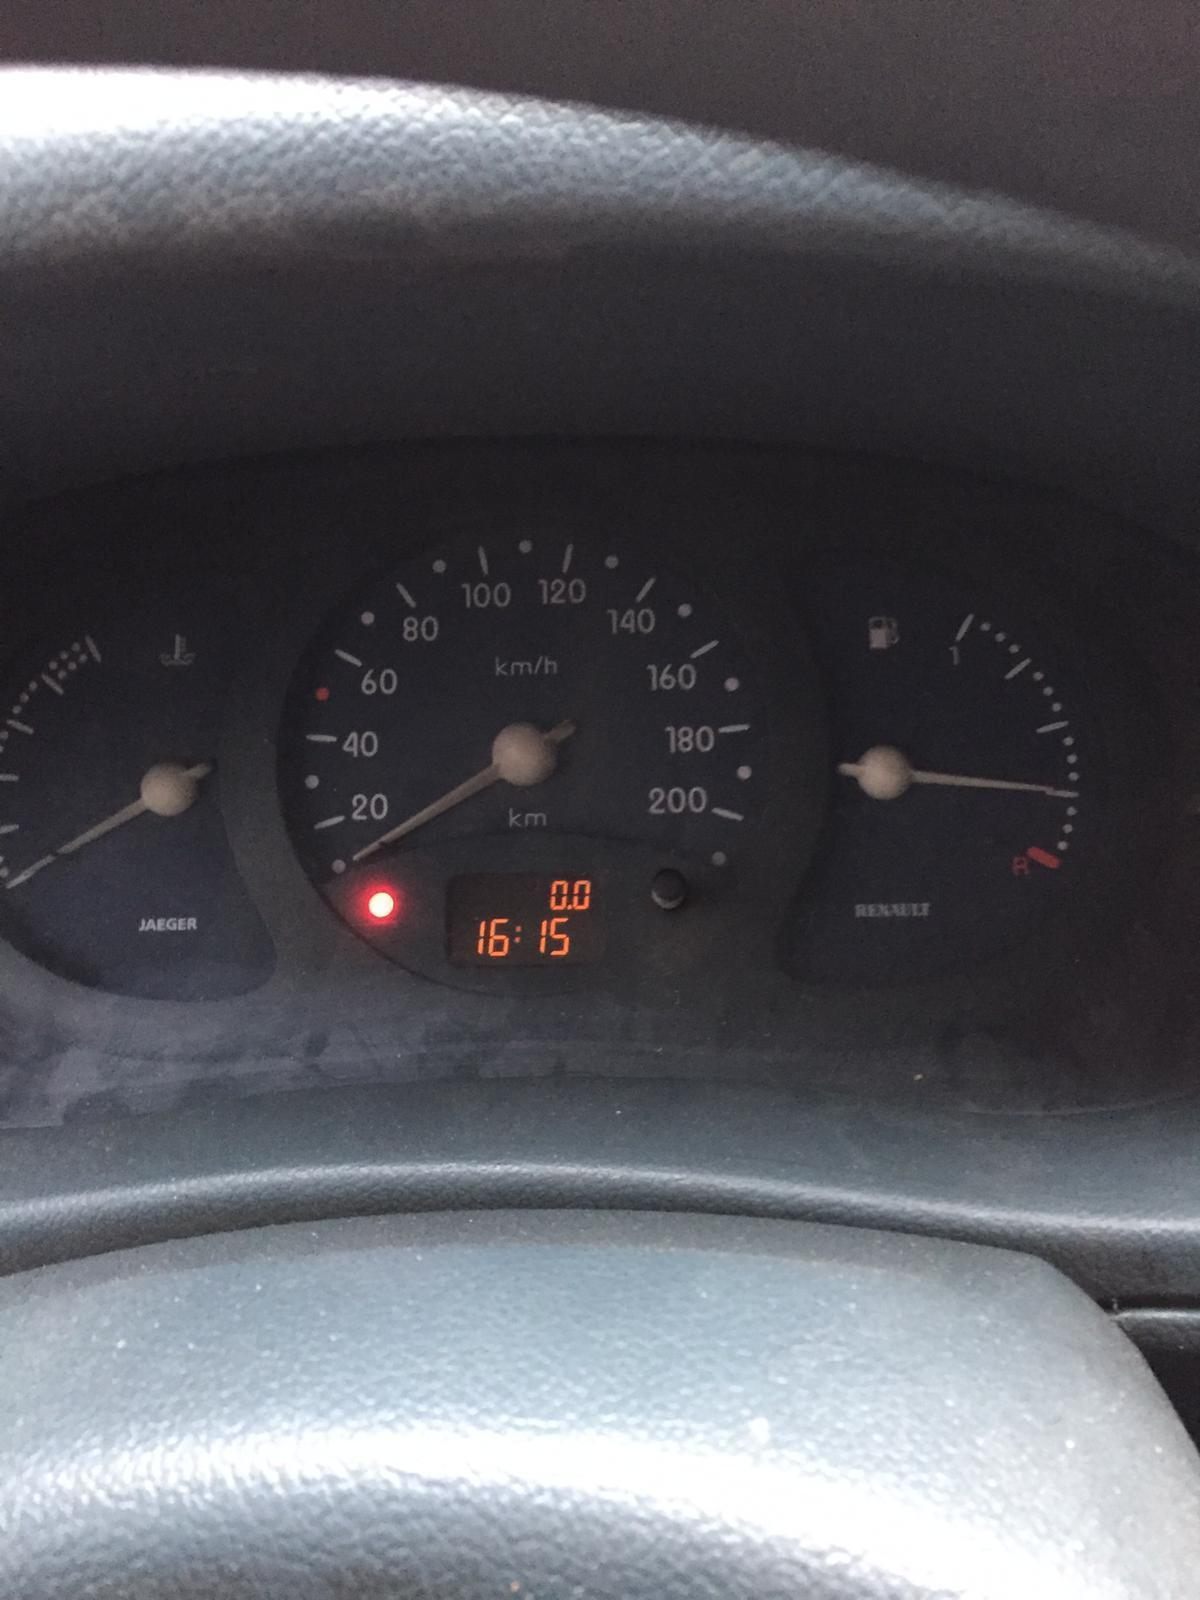,: (566, 903, 572, 910)
0: (572, 879, 591, 910), (550, 879, 568, 910)
1: (476, 918, 487, 954), (538, 918, 547, 952)
5: (550, 917, 570, 956)
6: (487, 917, 509, 956)
X: (513, 923, 522, 944)
odometer: (440, 866, 613, 973)
